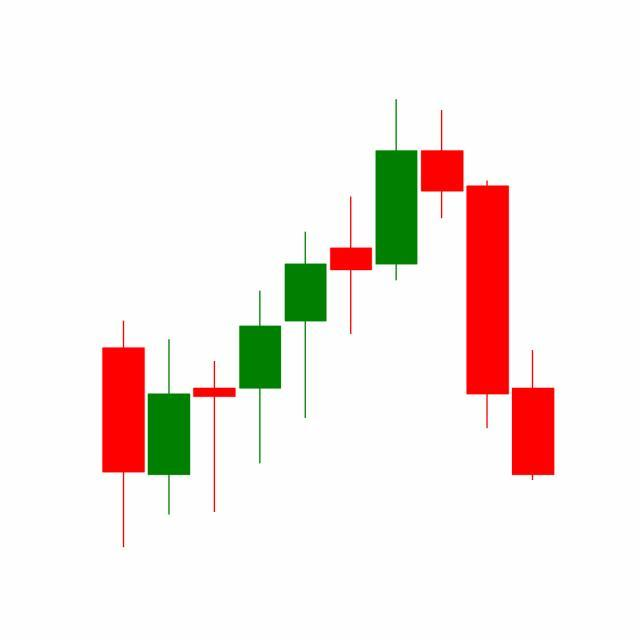Hikkake Pattern: (283, 99, 512, 434)
